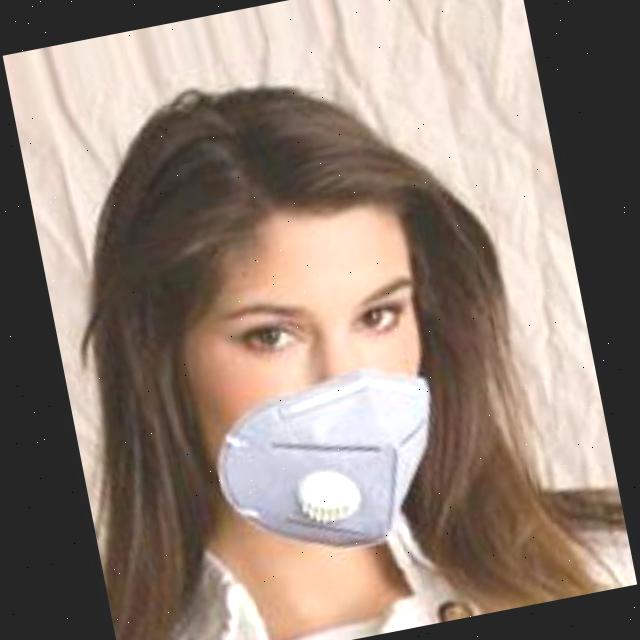suspicion: (114, 176, 478, 574)
